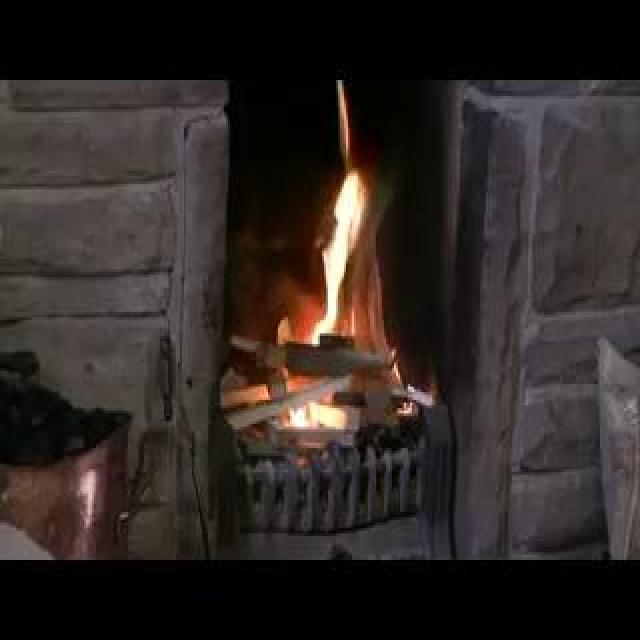Fire: (78, 158, 326, 270)
